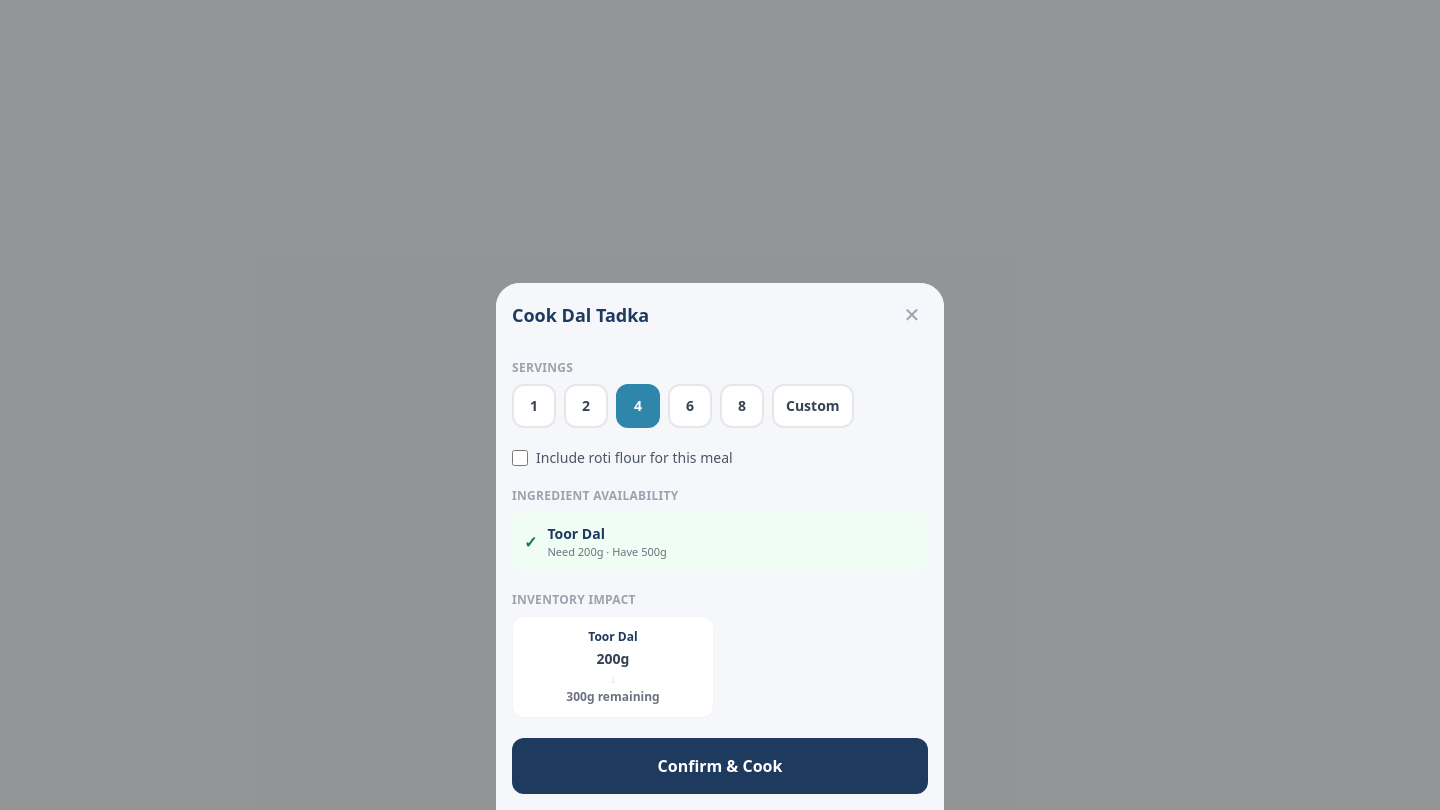
Scenario: CookMealFlow › surfaces a shortfall warning in the success step without failing the cook
This screenshot has width=1440, height=810.
Click the button "Confirm & Cook". click: (720, 766)
box: [512,738,928,794]
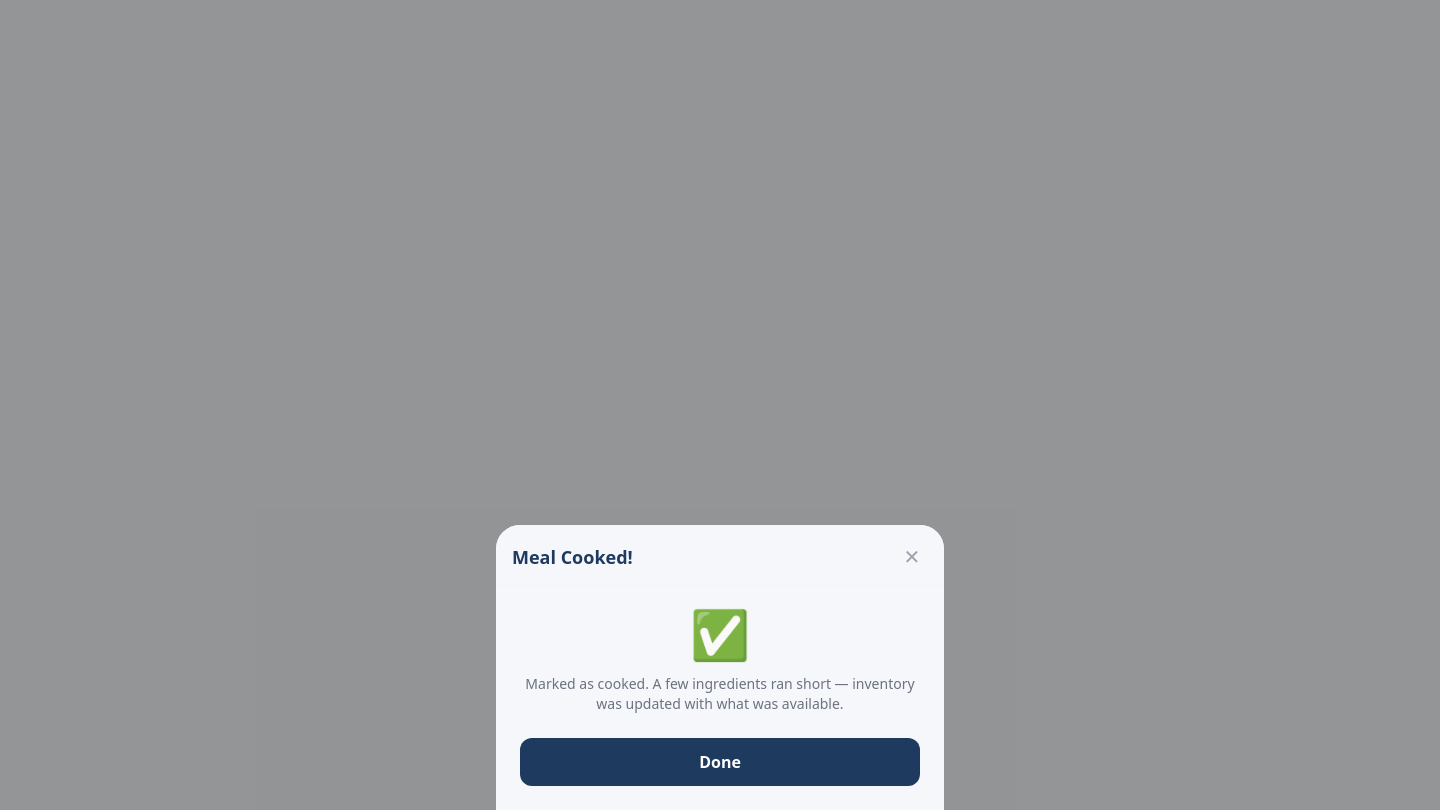
Expected: the text "ran short" is shown, [525,674,915,713]
